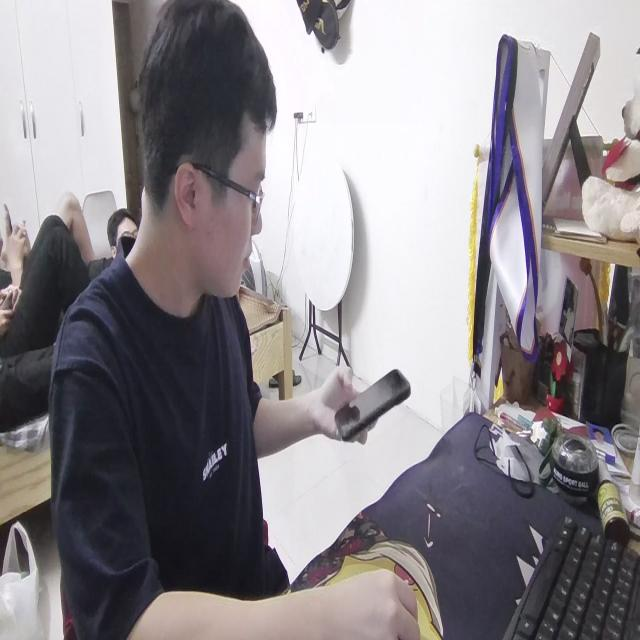extra_person: (1, 206, 85, 412), (104, 198, 138, 262)
phone: (333, 362, 413, 442)
student: (52, 0, 420, 640)
